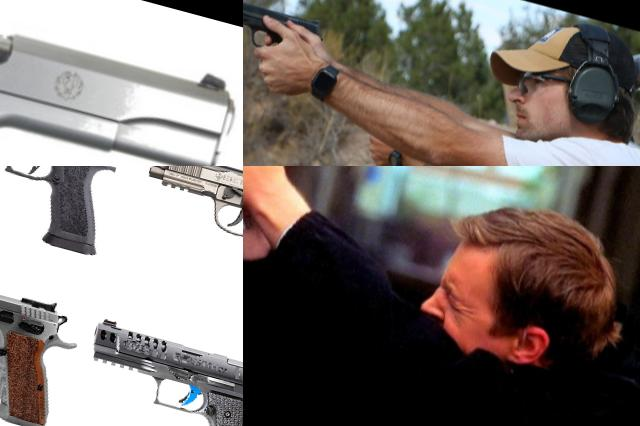handgun: (0, 0, 243, 166), (62, 314, 243, 426), (112, 166, 243, 318), (0, 259, 100, 426), (0, 166, 131, 262), (243, 0, 333, 71), (243, 166, 325, 210)
